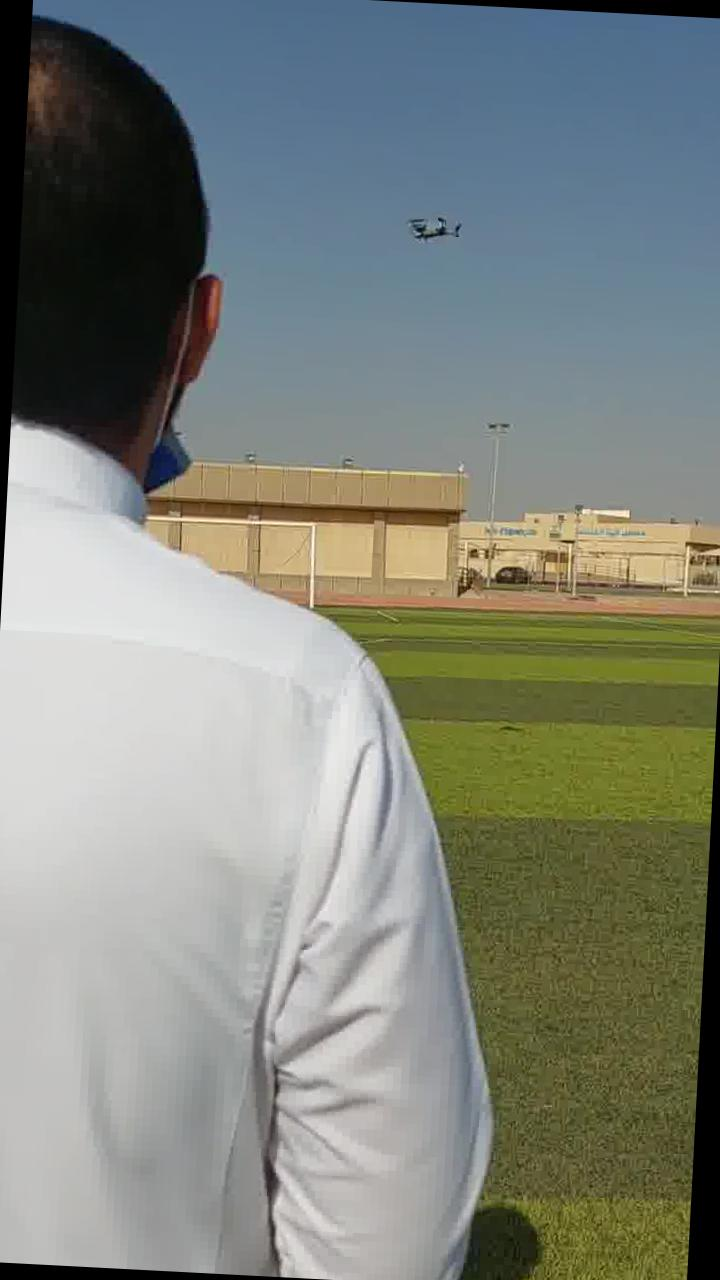drone: (396, 206, 468, 251)
